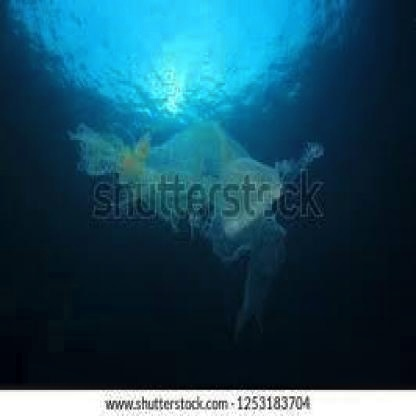pbag: (70, 116, 326, 348)
